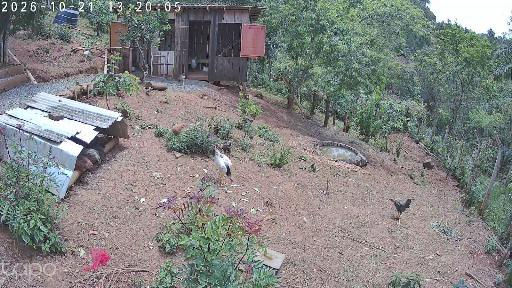frango: (210, 145, 234, 184), (385, 197, 415, 223), (76, 156, 95, 172), (214, 139, 232, 155), (89, 142, 107, 157), (82, 149, 101, 163), (170, 122, 183, 136), (179, 74, 186, 86)
galinha: (83, 49, 90, 64)
pato: (202, 66, 209, 72)
